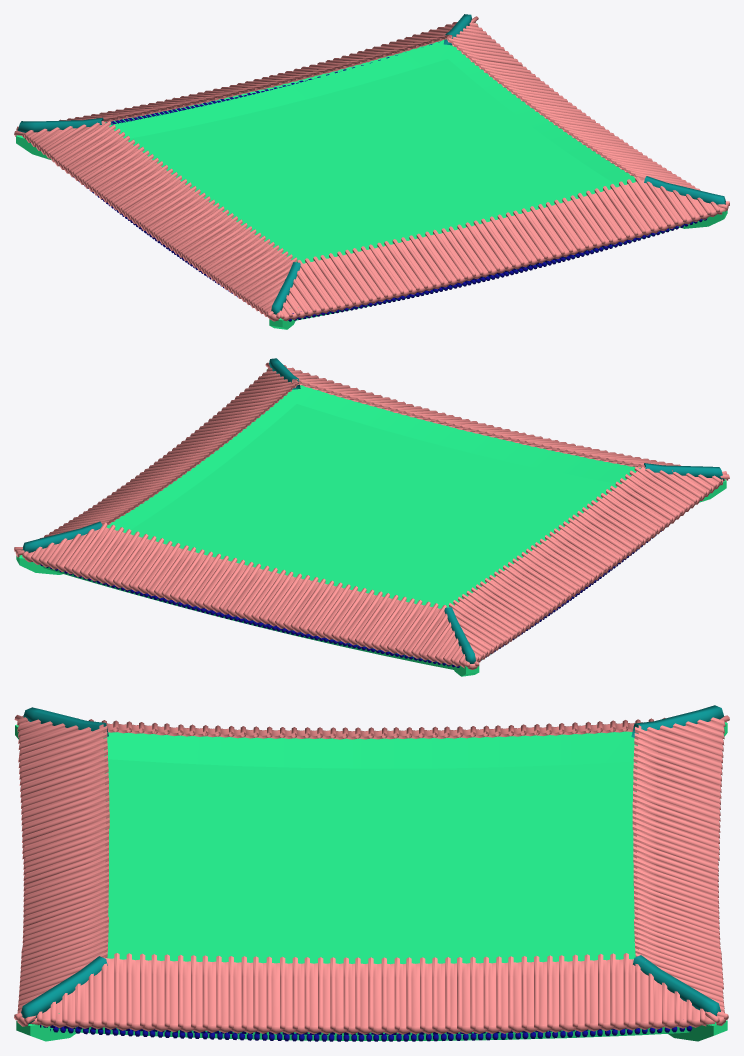
3 views of the same model, one above another, from view 1: azimuth 30°, elevation 25°; view 2: azimuth 150°, elevation 25°; view 3: azimuth 270°, elevation 25° (orthographic). The views are drawn at different scales.
Visible parts, largest first — view 1: Object055; view 2: Object055; view 3: Object055.
Boxes of the visible parts, x1,y1,x2,y2 form: Object055: (14,14,729,329); Object055: (14,358,729,676); Object055: (14,705,729,1041).
Bounding box in the file's own units: 32771 × 3055 × 31943.
